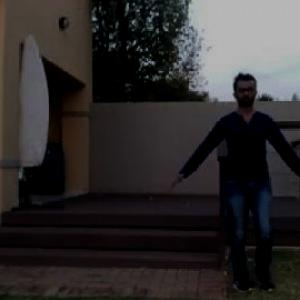land: (162, 72, 299, 299)
